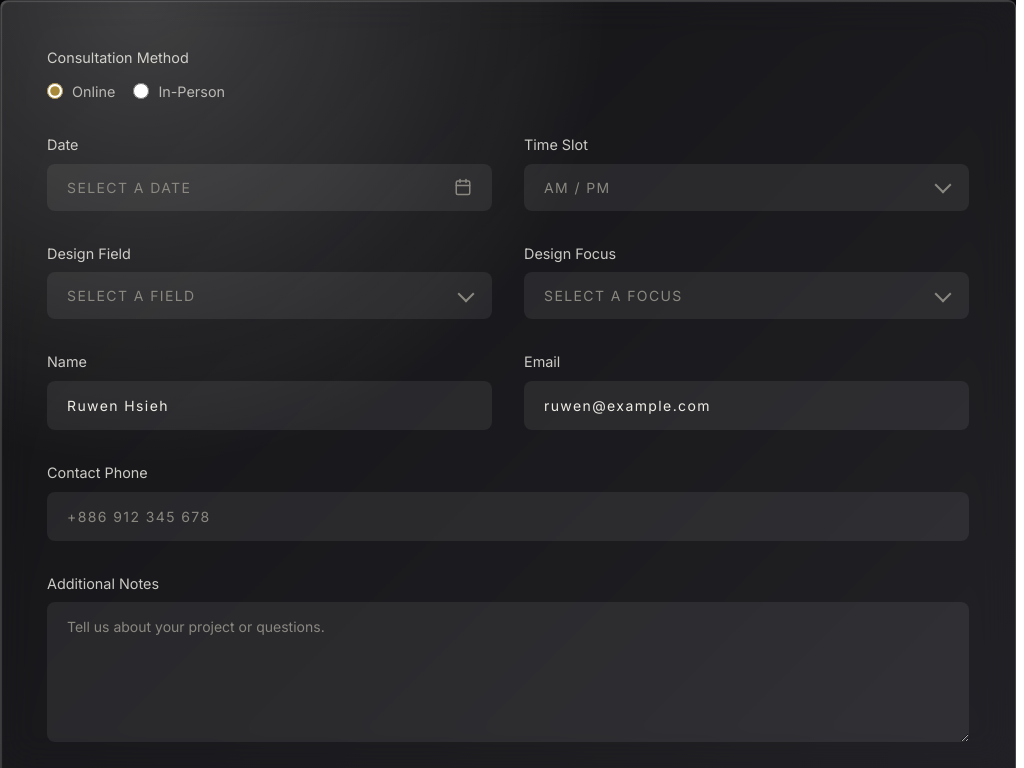
Test: RecommendationPanel › renders date choices in a monthly date picker
The image size is (1024, 768).
Click the button with class "recommendation-panel__date-trigger".
click(129, 187)  # box [47,164,492,211]
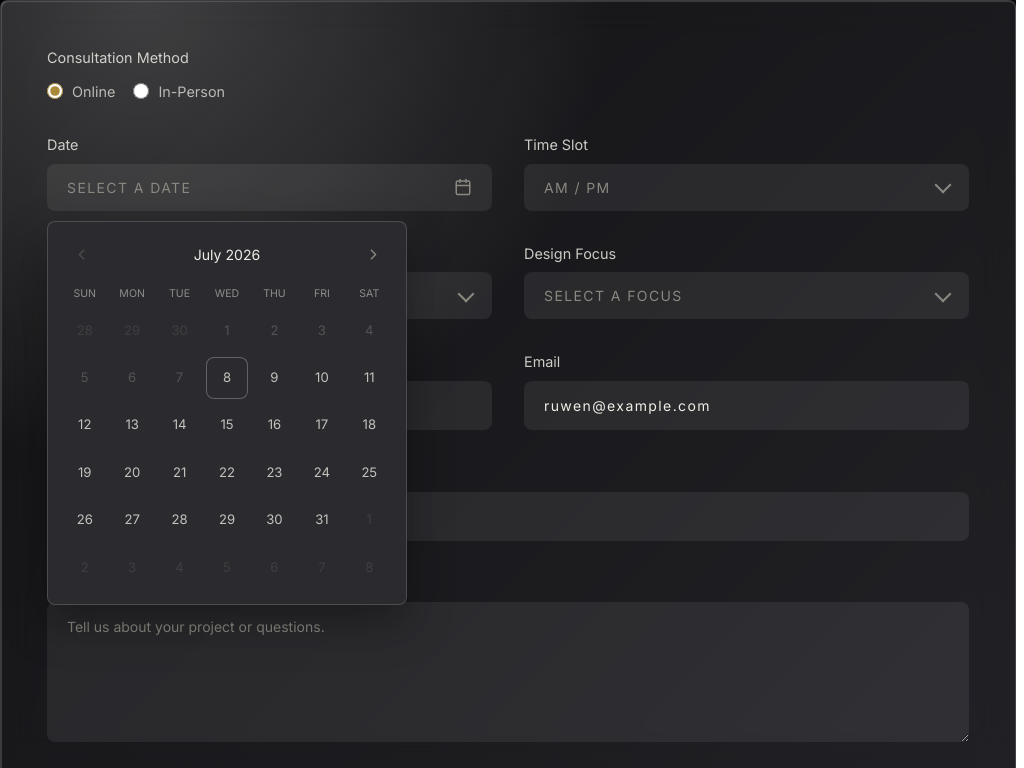
Expected: the text "July 2026" is shown, [194,246,260,263]
Expected: the number of buttons with class "recommendation-panel__calendar-day" is 42
